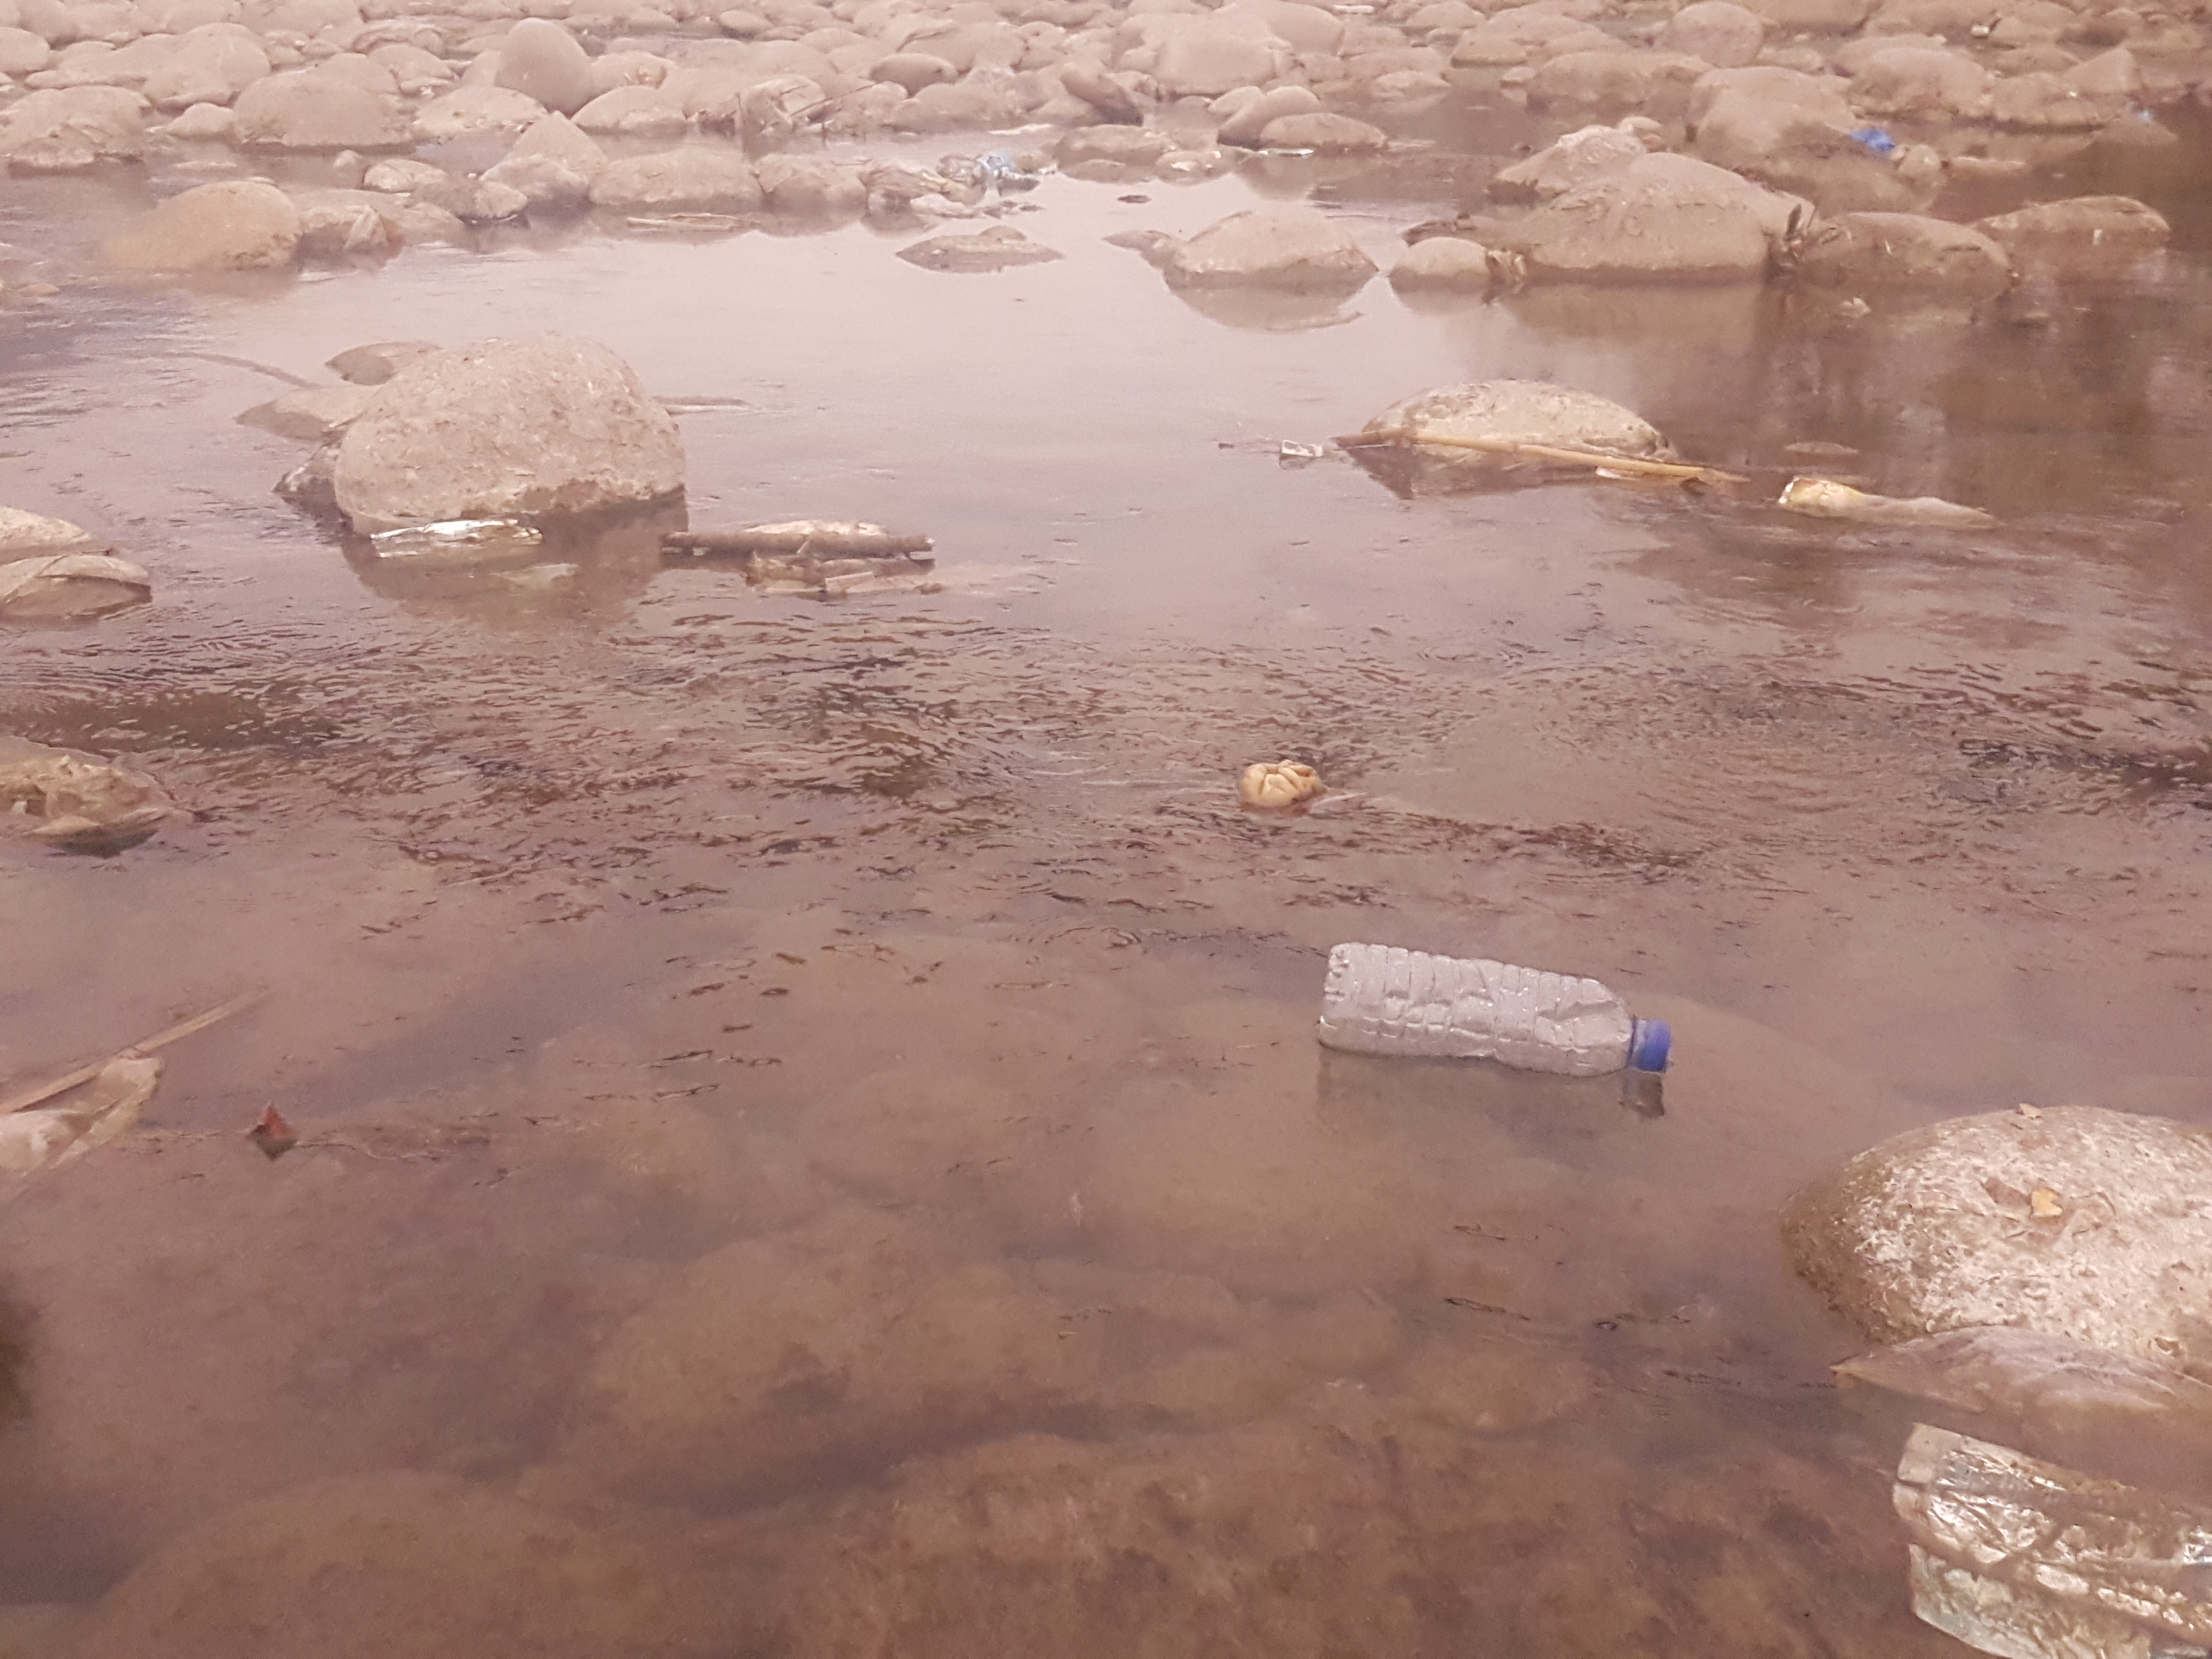Plastic Bottle: (1315, 943, 1674, 1079), (1778, 476, 1994, 528)
